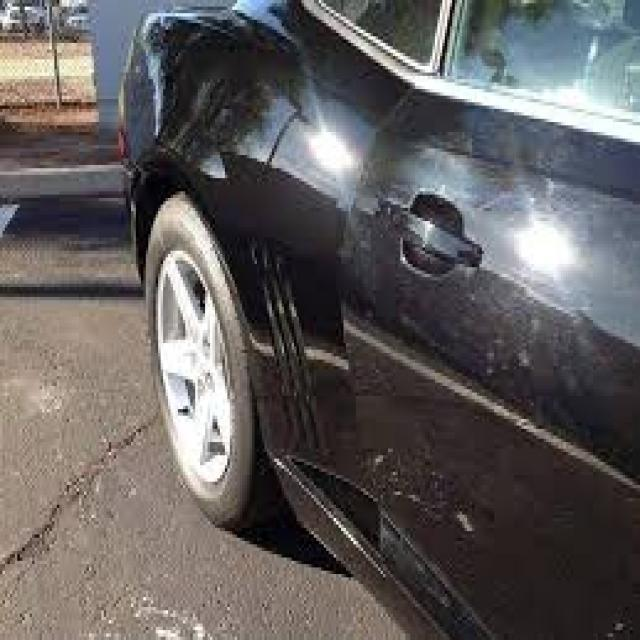dent-or-scratch: (368, 446, 491, 536)
